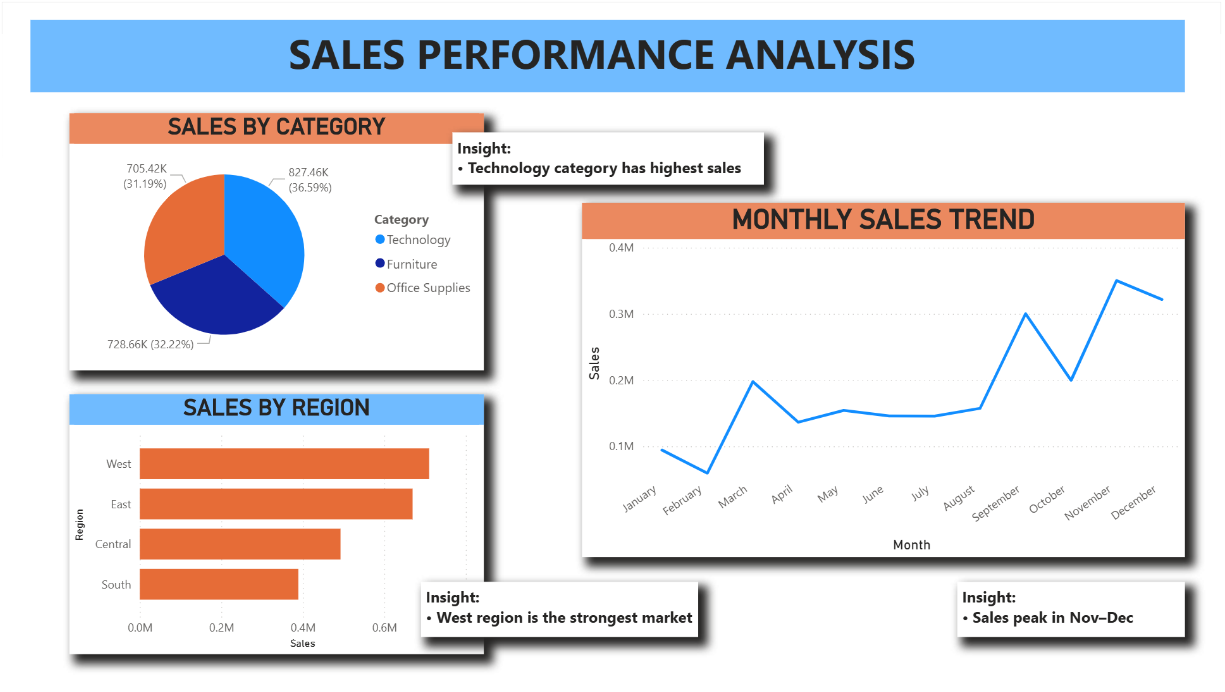

The dashboard page shown, as its layout file describes it:
{"tool":"powerbi","page":{"name":"Page 3","canvas":[1280,720],"ordinal":1},"visuals":[{"type":"clusteredBarChart","title":"SALES BY REGION ","fields":{"Category":["train.Region"],"Y":["Sum(train.Sales)"]},"box":[71.4,411.7,435,273.1],"z":0},{"type":"lineChart","title":"MONTHLY SALES TREND","fields":{"Category":["train.Order Date.Variation.Date Hierarchy.Month"],"Y":["Sum(train.Sales)"]},"box":[609.3,211.3,632.6,371.9],"z":1000},{"type":"pieChart","title":"SALES BY CATEGORY","fields":{"Category":["train.Category"],"Y":["Sum(train.Sales)"]},"box":[71.4,116.6,435,270.3],"z":2000},{"type":"textbox","box":[30.2,19.2,1211.7,75.5],"z":3000},{"type":"textbox","box":[473.4,137.2,326.6,54.9],"z":4000},{"type":"textbox","box":[440.5,609.3,290.9,57.6],"z":5000},{"type":"textbox","box":[1003.1,609.3,238.8,57.6],"z":6000}]}

Visuals, with their boxes in screenshot pixels (x1, y1, x2, y2), scaled from the page's 1280x720 canvas onto the 1225x692 screenshot:
"SALES BY REGION " clusteredBarChart: <box>68,396,485,658</box>
"MONTHLY SALES TREND" lineChart: <box>583,203,1189,561</box>
"SALES BY CATEGORY" pieChart: <box>68,112,485,372</box>
textbox: <box>29,18,1189,91</box>
textbox: <box>453,132,766,185</box>
textbox: <box>422,586,700,641</box>
textbox: <box>960,586,1189,641</box>
